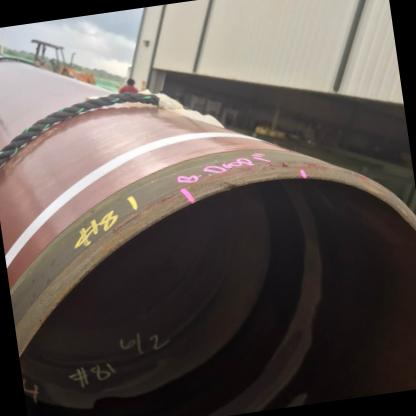Bevel: (210, 174, 249, 197)
